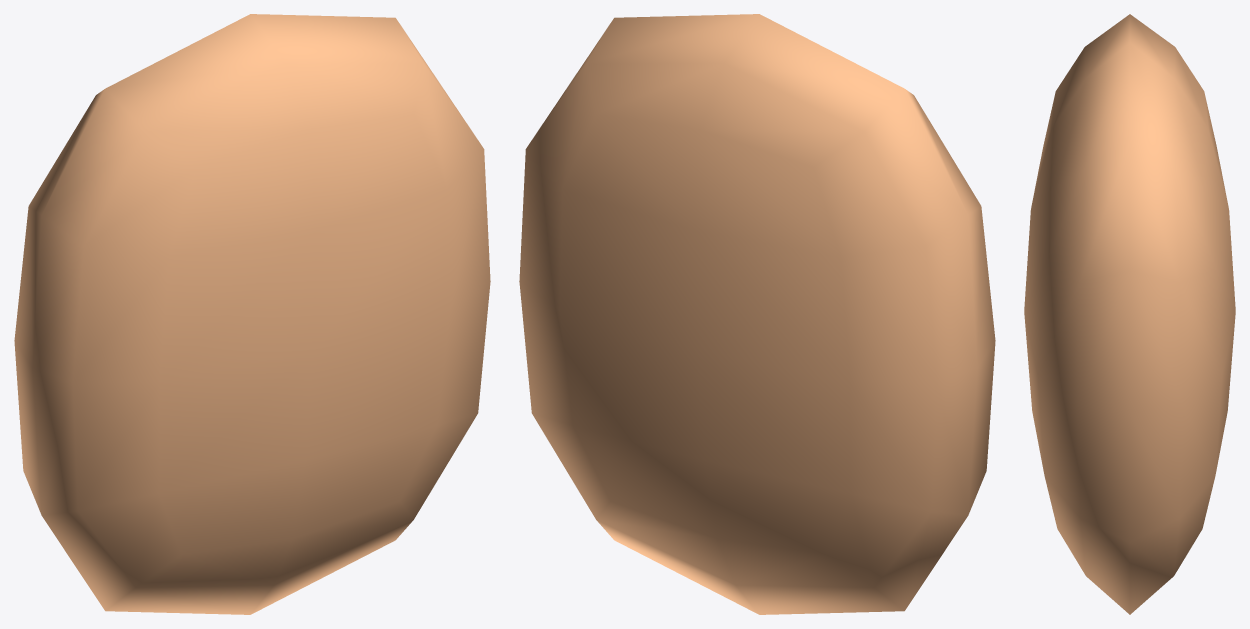
Rendered from benih tomat.fbx.
3 renders of one model, left to right at view 1: azimuth 30°, elevation 25°; view 2: azimuth 150°, elevation 25°; view 3: azimuth 270°, elevation 25°, orthographic. The views are drawn at different scales.
Parts seen in each view (by area): view 1: benih; view 2: benih; view 3: benih.
Part boxes in pixels (x1,y1,x2,y2): benih: (14, 14, 490, 614); benih: (519, 14, 995, 614); benih: (1024, 14, 1235, 614).
Bounding box in the file's own units: 32.01 × 42.18 × 14.88.
